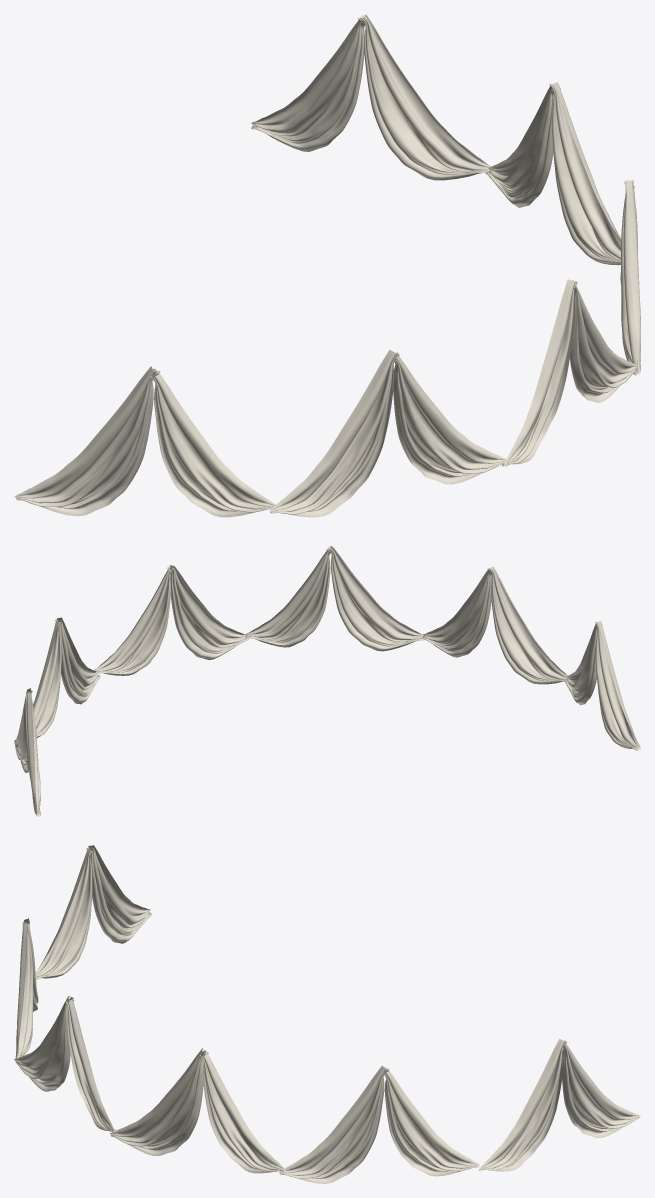
Rendered from gpdl3.gltf.
The picture shows the model from 3 angles, top to bottom: view 1: azimuth 30°, elevation 25°; view 2: azimuth 150°, elevation 25°; view 3: azimuth 270°, elevation 25°; orthographic projection. The views are drawn at different scales.
Visible parts, largest first — view 1: Plane.003; view 2: Plane.003; view 3: Plane.003.
Part boxes in pixels (x1,y1,x2,y2): Plane.003: [14, 14, 640, 517]; Plane.003: [14, 546, 640, 816]; Plane.003: [14, 845, 640, 1183].
Size of the model in its own units: 6.45 by 1.34 by 6.47.
12 materials, 12 textured.
